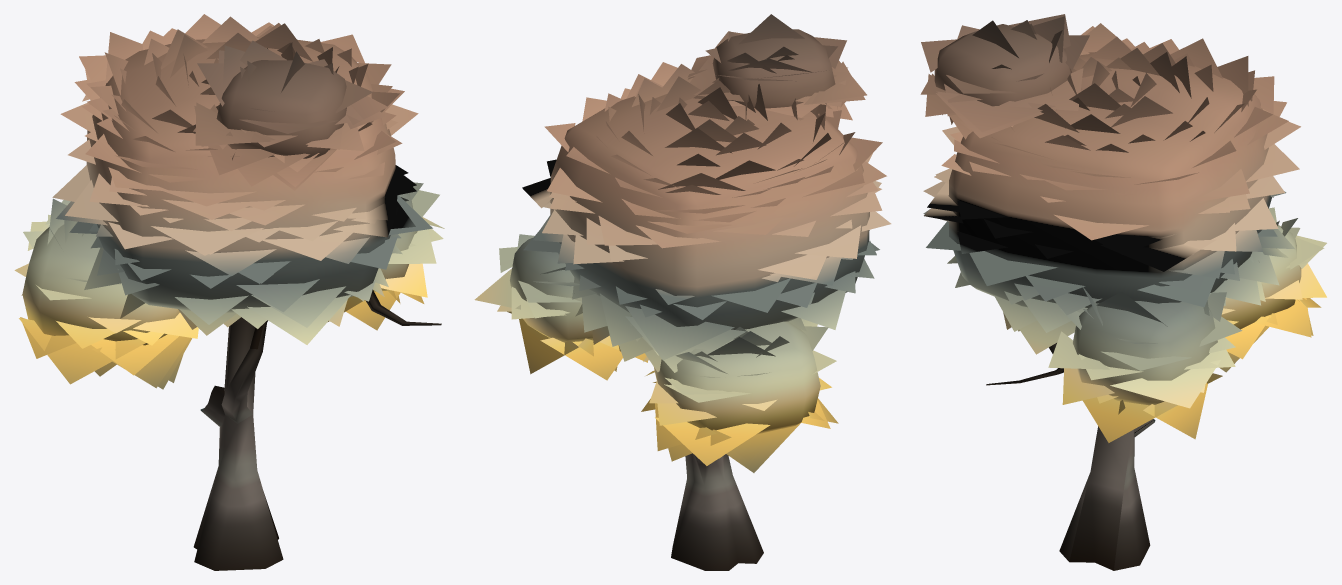
The model's file is Tree_5C.fbx.
3 views of the same model, side by side, from view 1: azimuth 30°, elevation 25°; view 2: azimuth 150°, elevation 25°; view 3: azimuth 270°, elevation 25° (orthographic). The views are drawn at different scales.
Parts seen in each view (by area): view 1: Tree_5C; view 2: Tree_5C; view 3: Tree_5C.
Part boxes in pixels (box(x1,y1,x2,y2)): Tree_5C: box(14, 14, 444, 570); Tree_5C: box(474, 14, 891, 570); Tree_5C: box(920, 14, 1326, 570).
Bounding box in the file's own units: 5.72 × 7.71 × 5.38.
